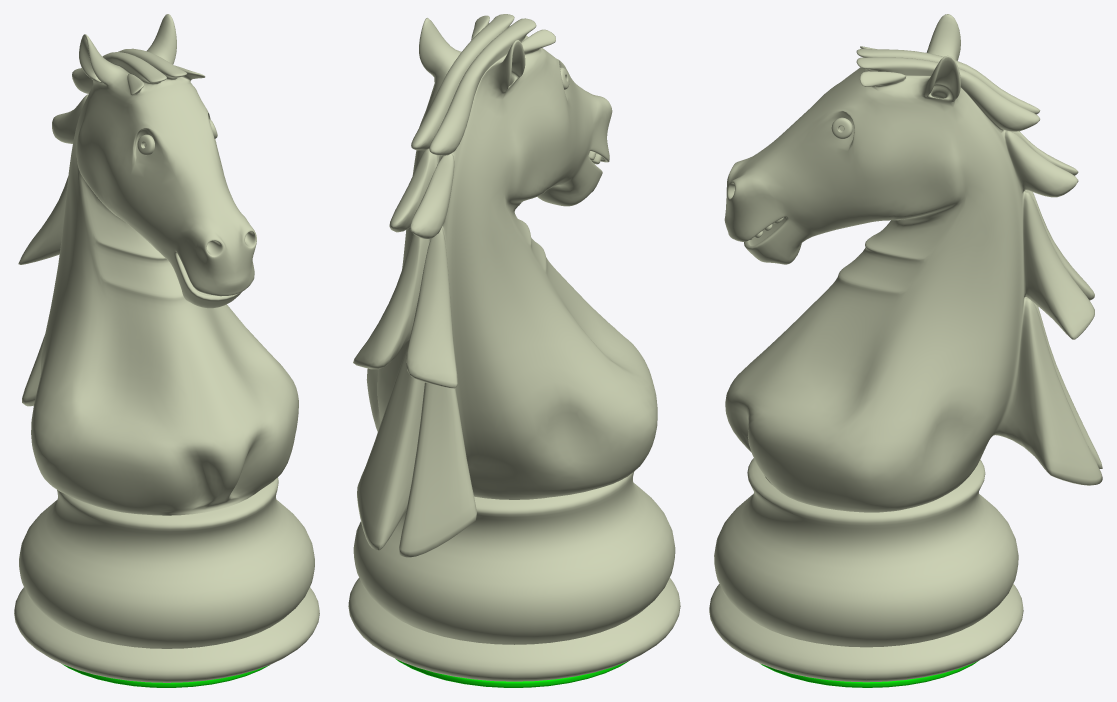
The model's file is Knight.FBX.
The picture shows the model from 3 angles, left to right: view 1: azimuth 30°, elevation 25°; view 2: azimuth 150°, elevation 25°; view 3: azimuth 270°, elevation 25°; orthographic projection. The views are drawn at different scales.
Parts seen in each view (by area): view 1: knight_copy17; view 2: knight_copy17; view 3: knight_copy17.
Boxes of the visible parts, bbox=[...] form: knight_copy17: bbox=[14, 14, 319, 687]; knight_copy17: bbox=[348, 14, 680, 687]; knight_copy17: bbox=[709, 14, 1102, 687].
Size of the model in its own units: 1.72 by 3.62 by 2.16.
